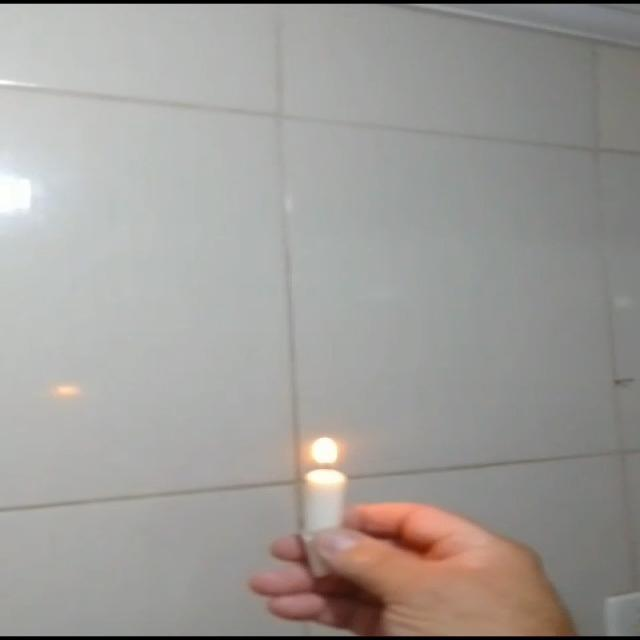fogo-ypXI: (302, 434, 348, 470)
